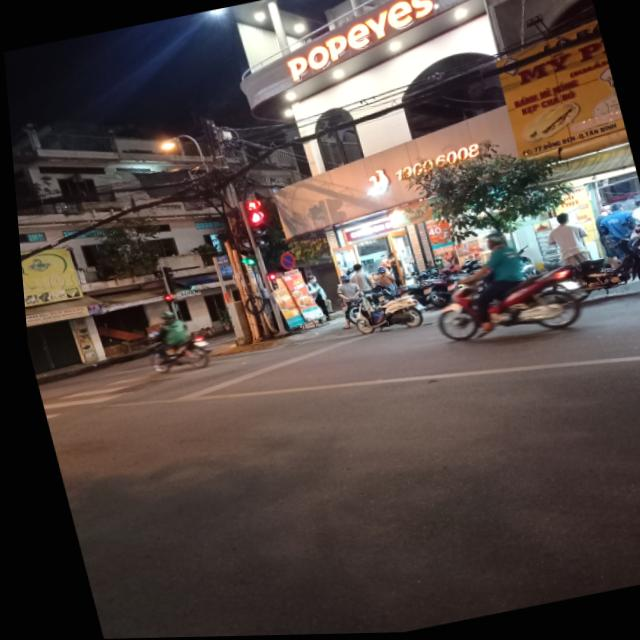Red: (238, 207, 271, 251), (258, 272, 278, 296)
